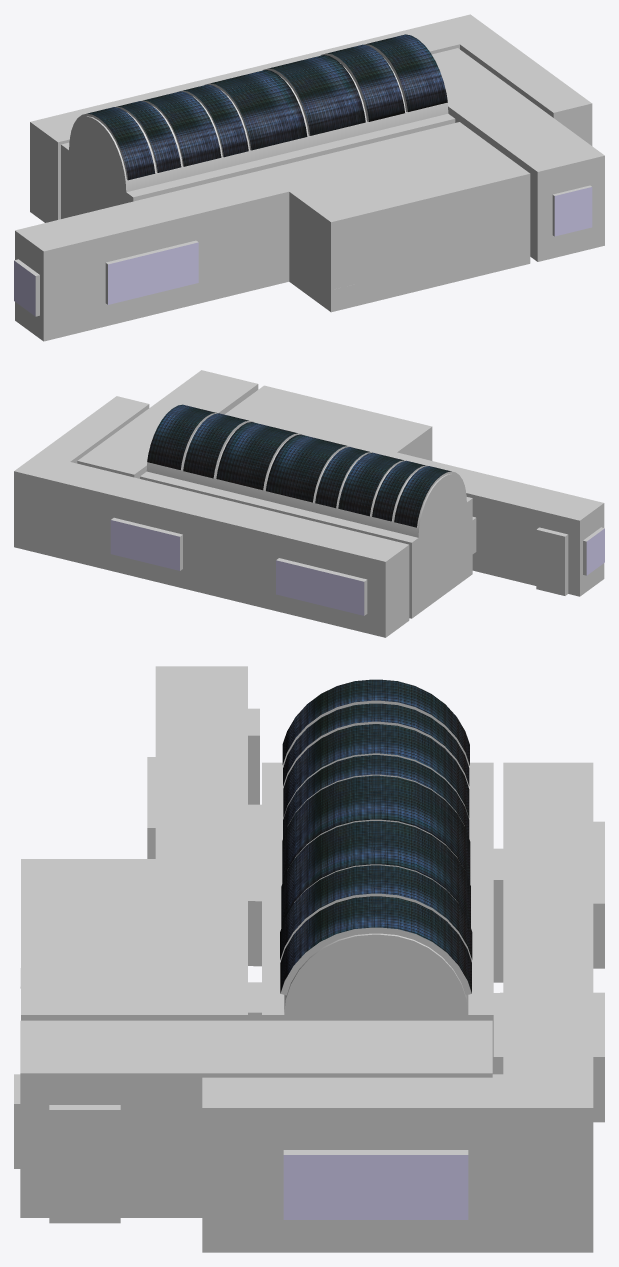
Rendered from SM_Buro00_Block00.fbx.
3 views of the same model, one above another, from view 1: azimuth 30°, elevation 25°; view 2: azimuth 150°, elevation 25°; view 3: azimuth 270°, elevation 25° (orthographic). The views are drawn at different scales.
Visible parts, largest first — view 1: SM_Buro00_Block00; view 2: SM_Buro00_Block00; view 3: SM_Buro00_Block00.
Boxes of the visible parts, x1,y1,x2,y2 form: SM_Buro00_Block00: (14,14,604,341); SM_Buro00_Block00: (14,370,604,637); SM_Buro00_Block00: (14,666,604,1252).
Size of the model in its own units: 2627 by 630 by 1459.
